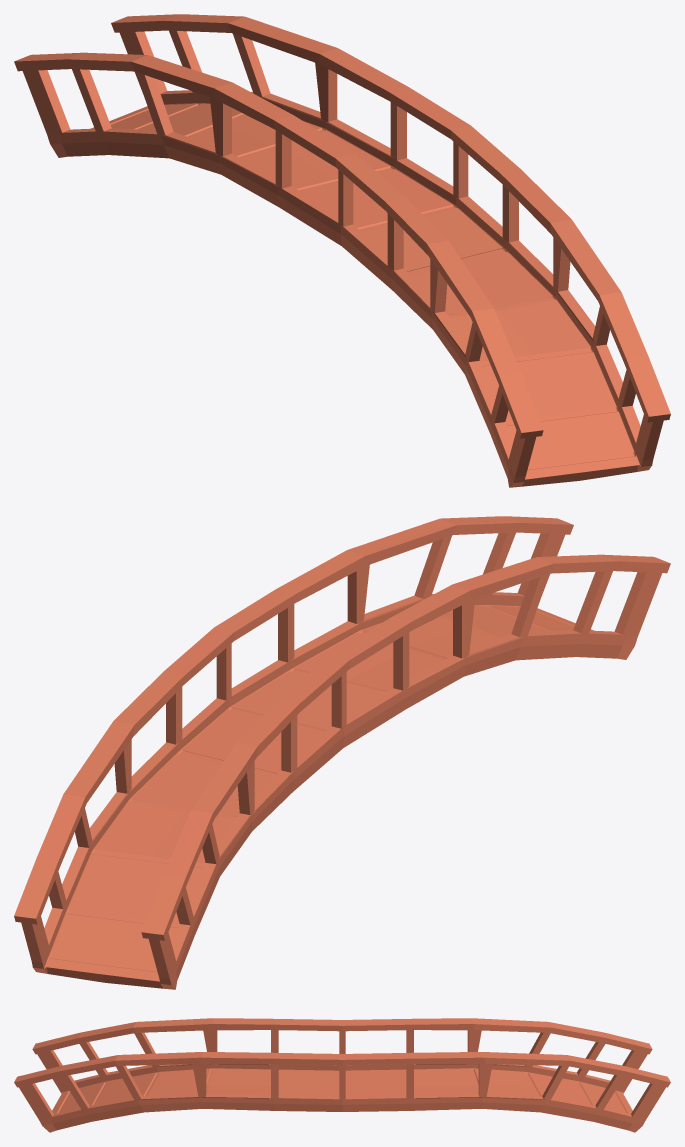
Rendered from silta_sideways_long.fbx.
3 renders of one model, top to bottom at view 1: azimuth 30°, elevation 25°; view 2: azimuth 150°, elevation 25°; view 3: azimuth 270°, elevation 25°, orthographic. The views are drawn at different scales.
Visible parts, largest first — view 1: Cube.001; view 2: Cube.001; view 3: Cube.001.
Part boxes in pixels (left/top/right/bottom): Cube.001: left=14, top=14, right=670, bottom=487; Cube.001: left=14, top=516, right=670, bottom=989; Cube.001: left=14, top=1018, right=670, bottom=1132.
Size of the model in its own units: 471 by 338 by 2182.
